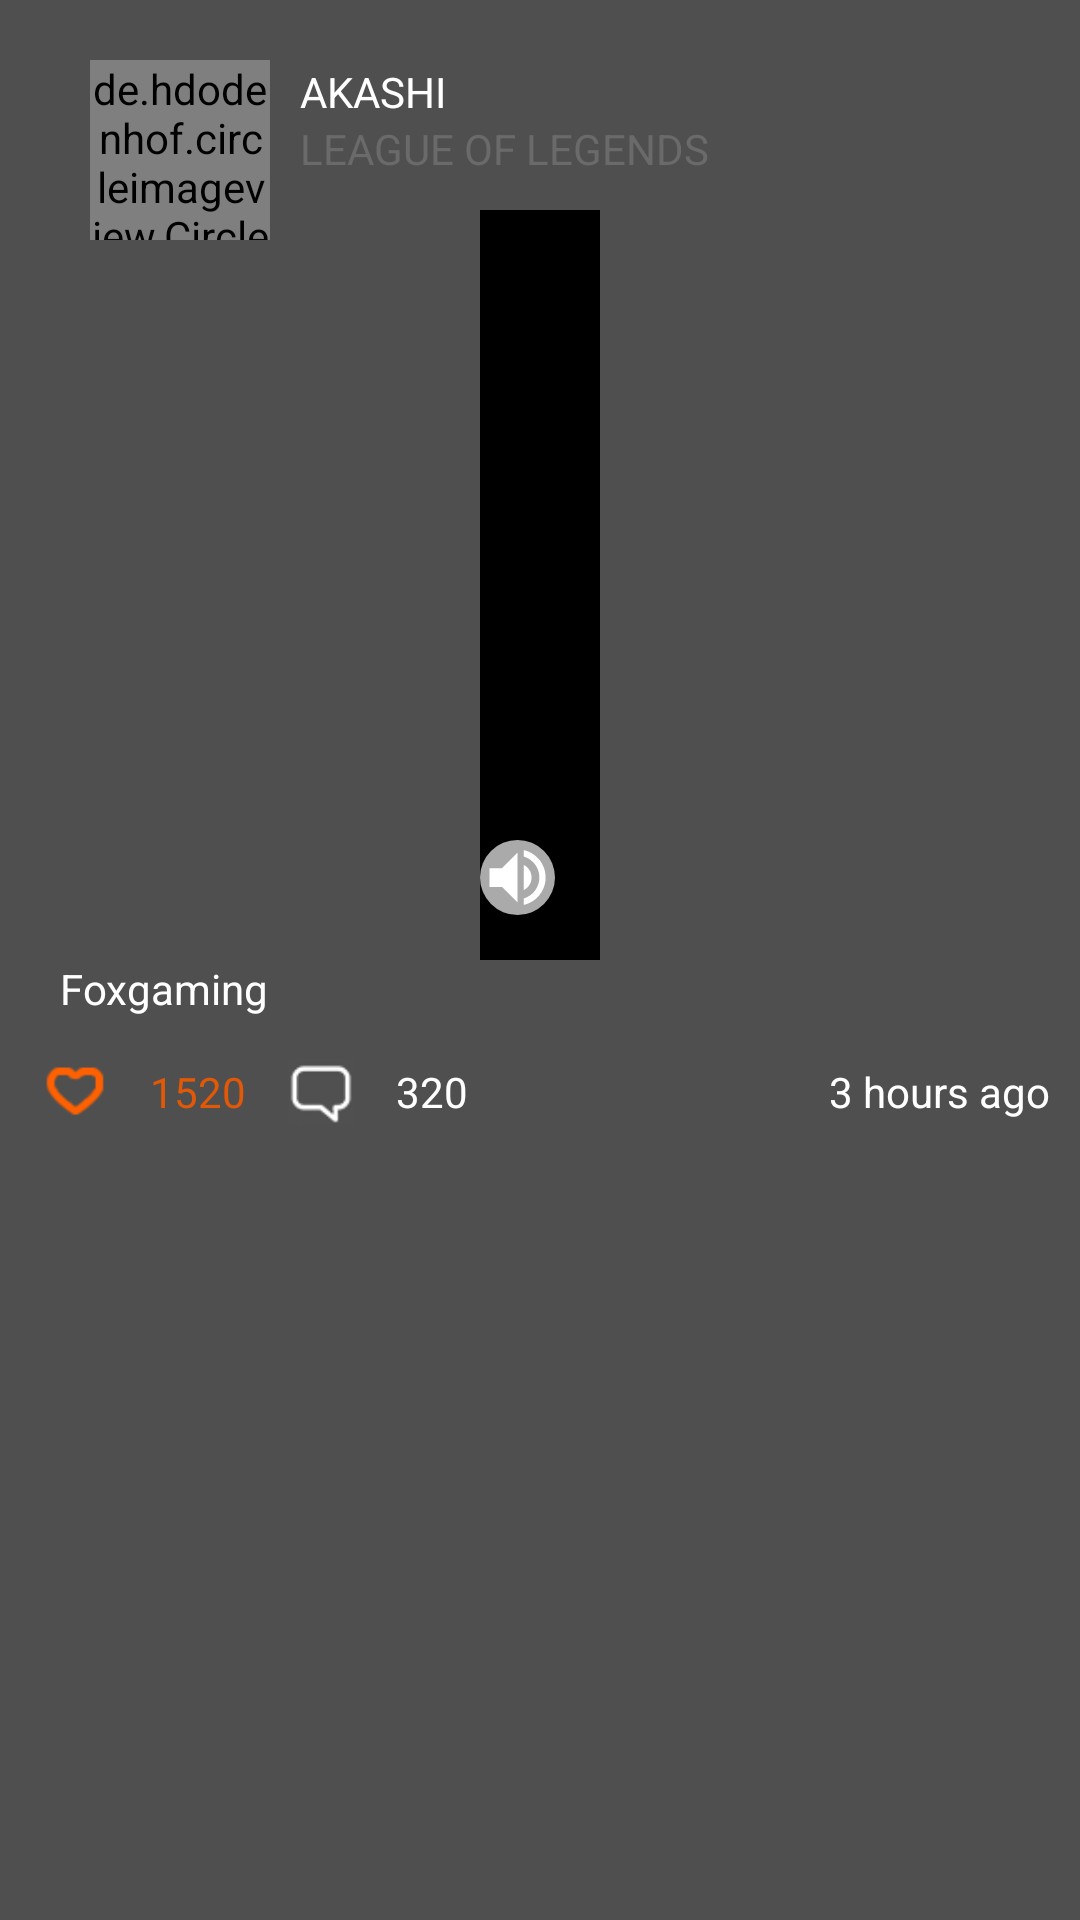

Named icons in this screenshot (1080x1920) and their bounding boxes, (x1, y1, x2, y2):
comments: (291, 1065, 351, 1123)
like: (46, 1067, 104, 1115)
volume on: (480, 840, 555, 915)
